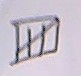kok: (5, 13, 64, 64)
